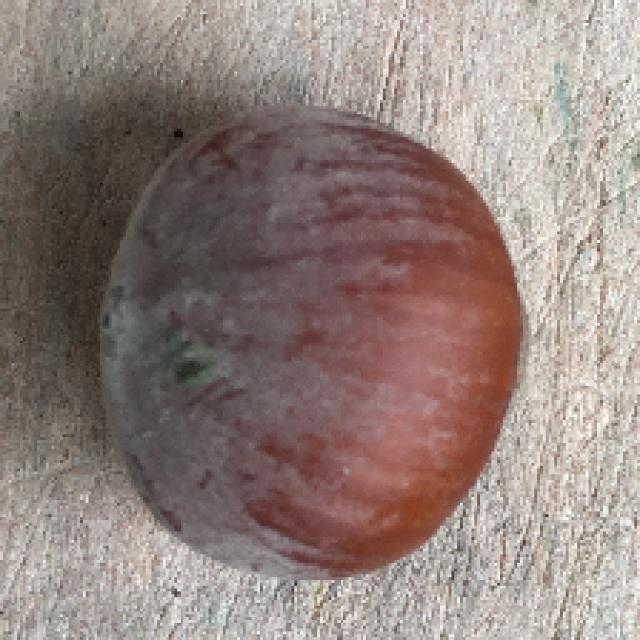qualityHazelnut: (74, 97, 532, 573)
